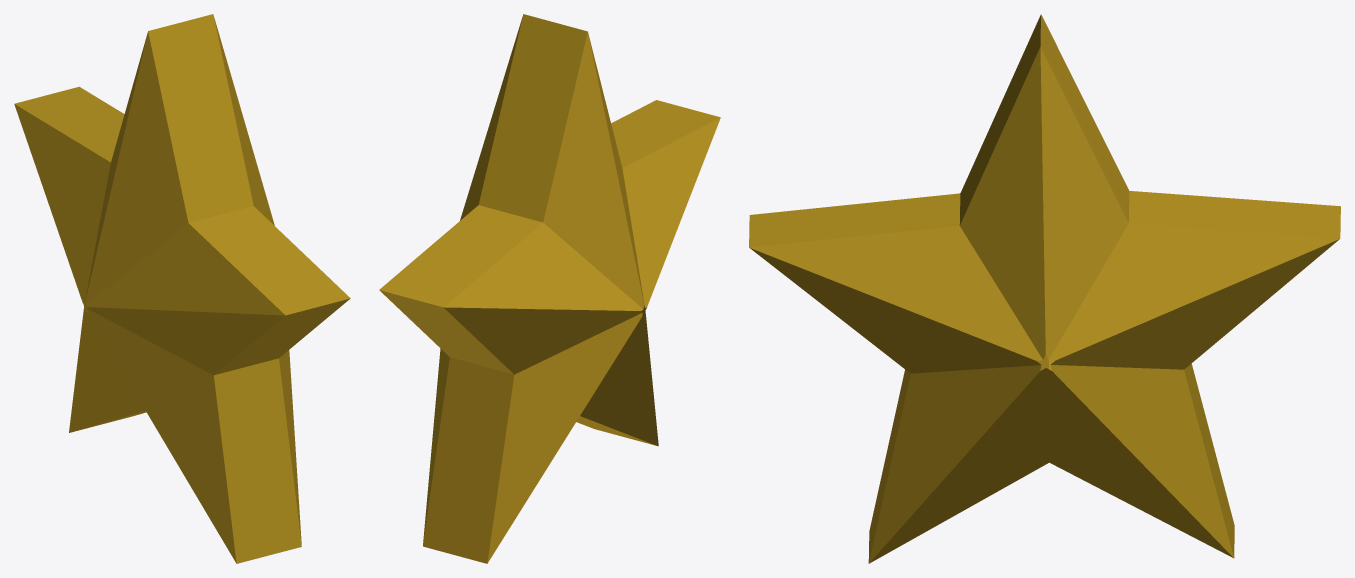
3 views of the same model, side by side, from view 1: azimuth 30°, elevation 25°; view 2: azimuth 150°, elevation 25°; view 3: azimuth 270°, elevation 25° (orthographic). The views are drawn at different scales.
Visible parts, largest first — view 1: Cylinder; view 2: Cylinder; view 3: Cylinder.
Part boxes in pixels (left/top/right/bottom): Cylinder: left=14, top=14, right=350, bottom=563; Cylinder: left=379, top=14, right=720, bottom=563; Cylinder: left=749, top=14, right=1340, bottom=563.
Bounding box in the file's own units: 77.96 × 183 × 190.
